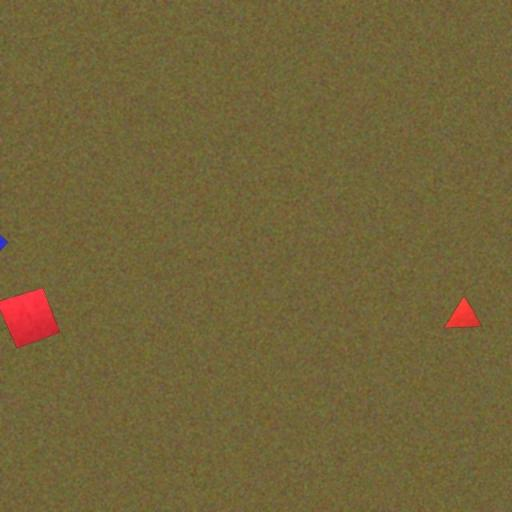RED_SQUARE: (0, 287, 60, 350)
